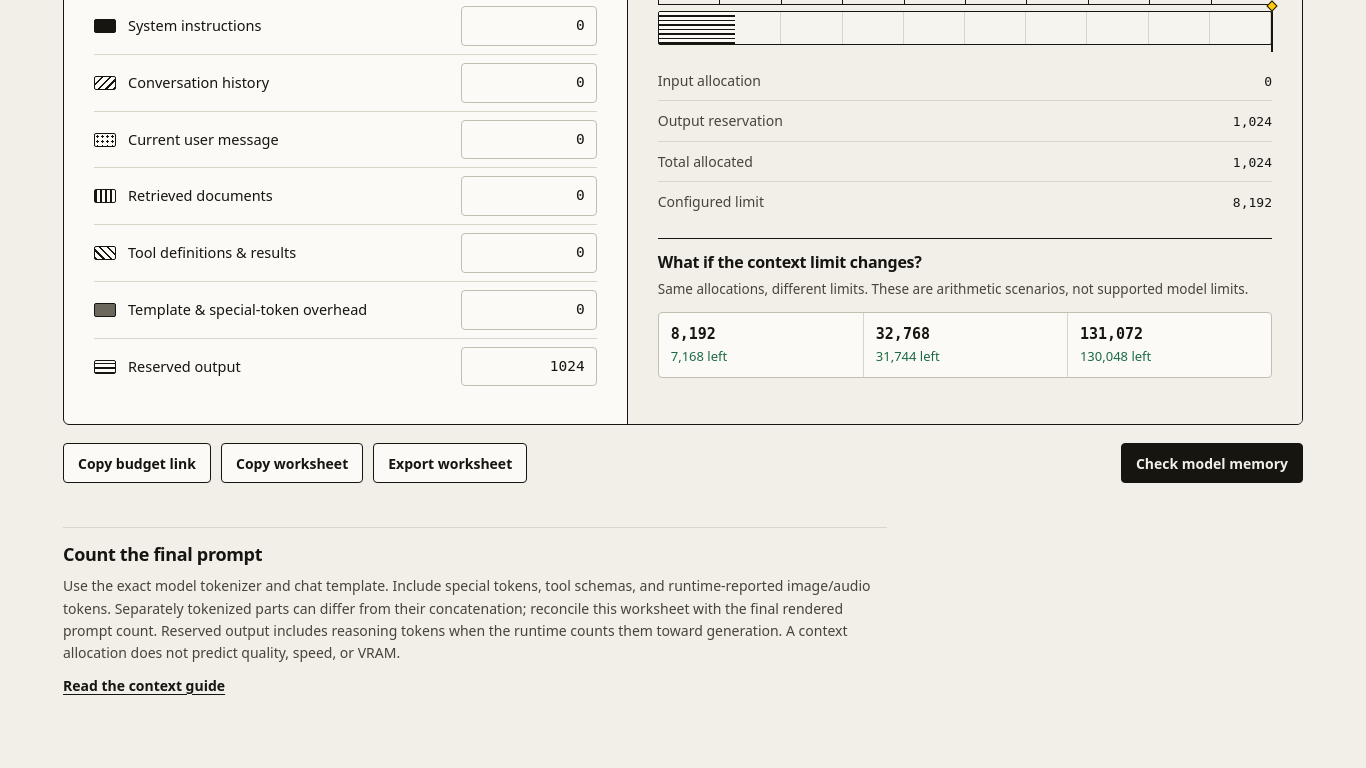
Scenario: context budget UI › shows clipboard failure explicitly
The image size is (1366, 768).
(page scrolled)
Step 1. Click the button "Copy budget link" → (137, 464), box [63,444,211,484]
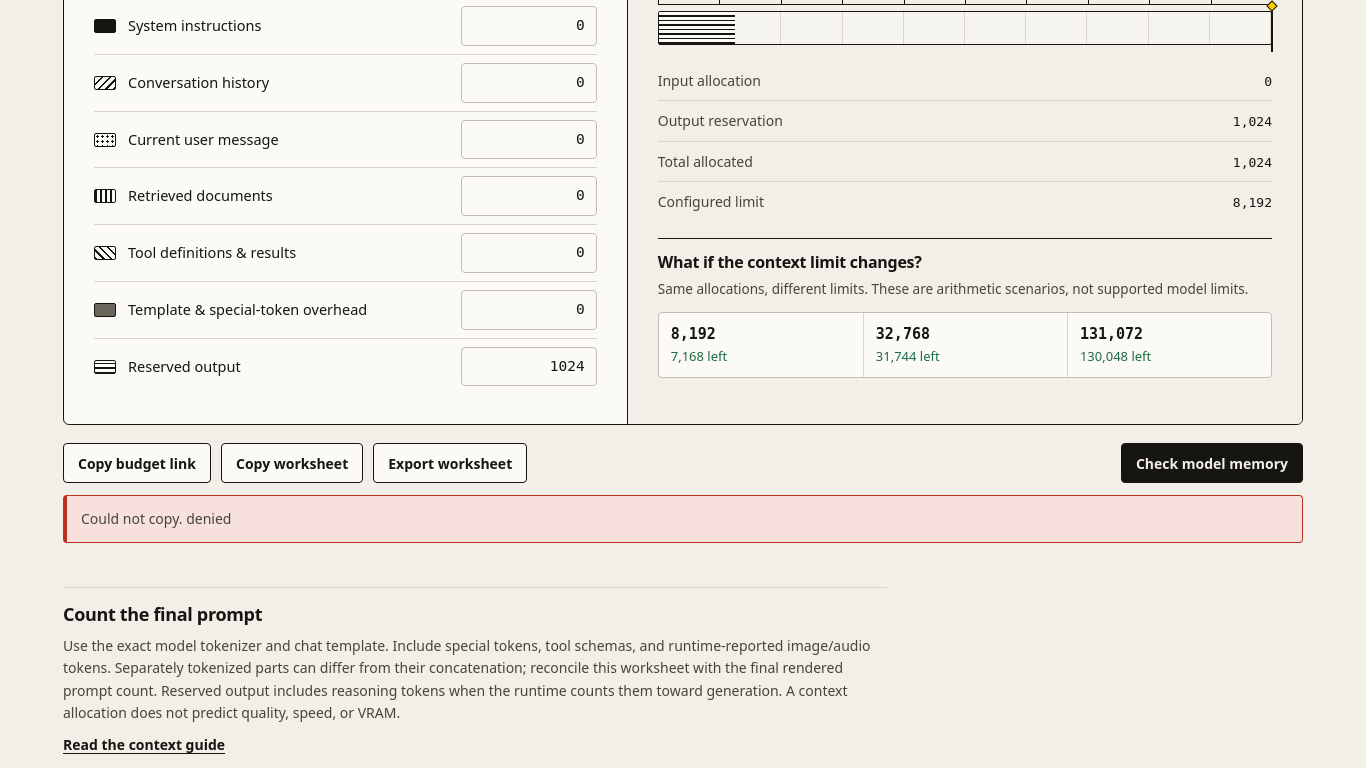
Check: the message shows "Could not copy", box [81,510,231,528]
